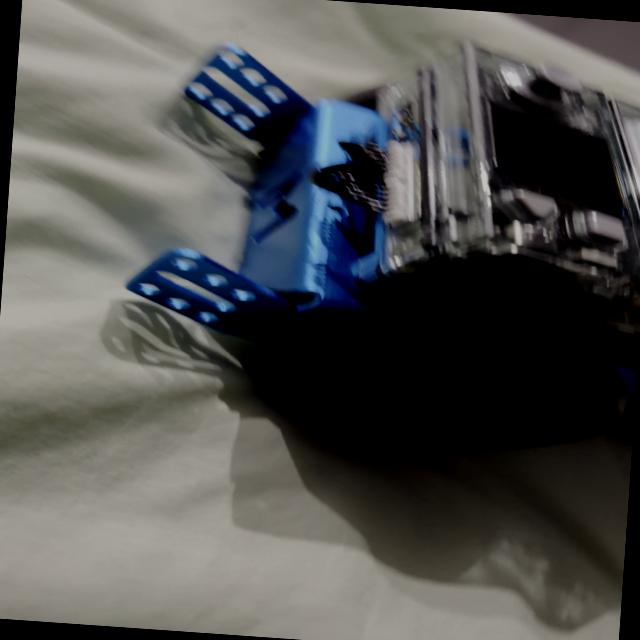mbot-detection: (102, 5, 640, 484)
